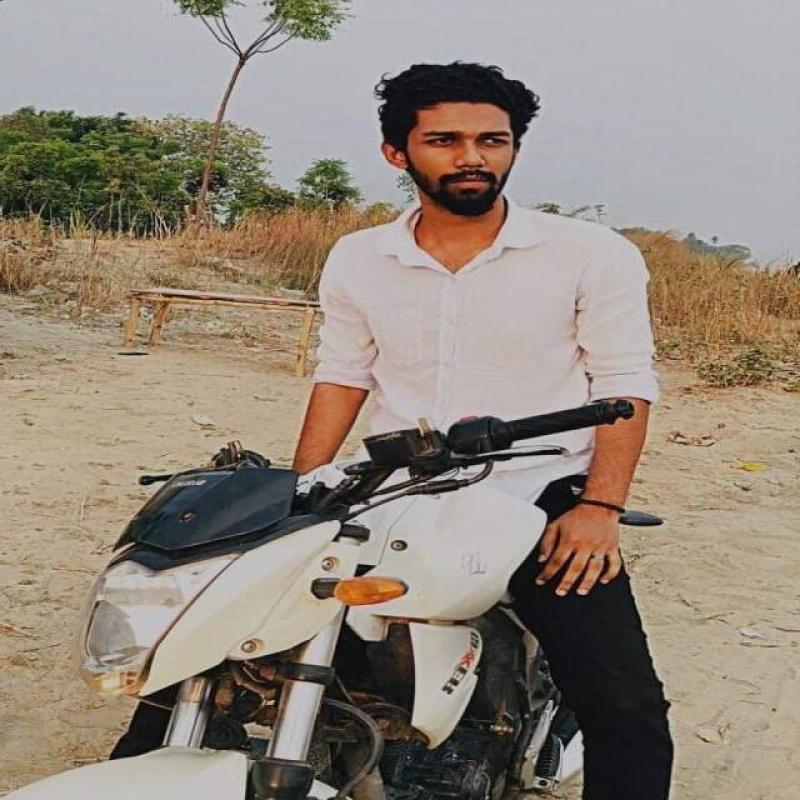nohelmet: (369, 63, 552, 213)
